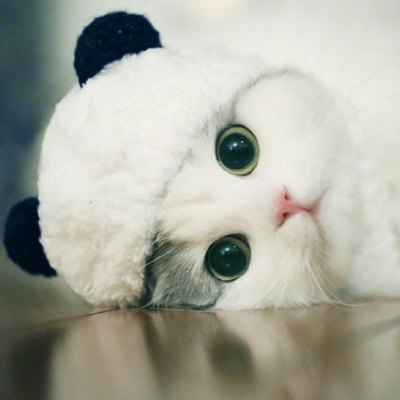cat: (13, 10, 381, 316)
